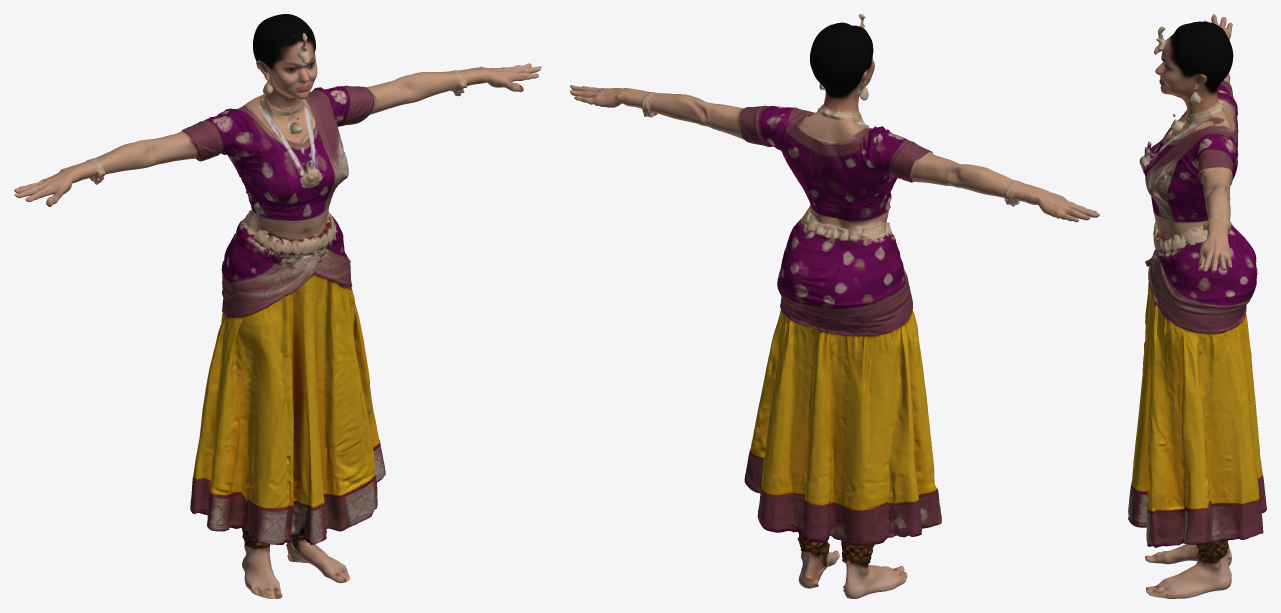
File: Dancer.glb
3 views of the same model, side by side, from view 1: azimuth 30°, elevation 25°; view 2: azimuth 150°, elevation 25°; view 3: azimuth 270°, elevation 25° (orthographic).
Parts seen in each view (by area): view 1: tripo_node_dc6b83e0-afd1-4542-8869-ad69c69b39ee; view 2: tripo_node_dc6b83e0-afd1-4542-8869-ad69c69b39ee; view 3: tripo_node_dc6b83e0-afd1-4542-8869-ad69c69b39ee.
Boxes of the visible parts, x1=… form: tripo_node_dc6b83e0-afd1-4542-8869-ad69c69b39ee: x1=14, y1=14, x2=541, y2=598; tripo_node_dc6b83e0-afd1-4542-8869-ad69c69b39ee: x1=570, y1=14, x2=1099, y2=598; tripo_node_dc6b83e0-afd1-4542-8869-ad69c69b39ee: x1=1128, y1=14, x2=1266, y2=598.
Bounding box in the file's own units: 0.9952 × 1 × 0.2283.
Materials: 1 (1 with a texture image).
